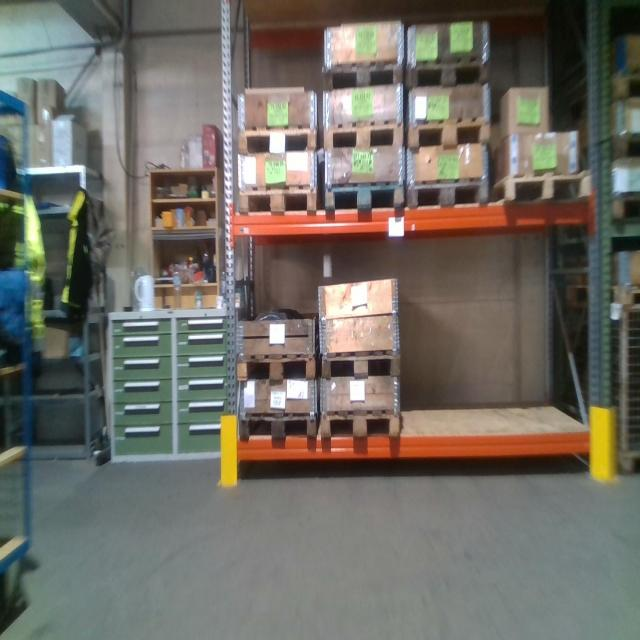pallet: (489, 173, 596, 213), (318, 56, 405, 93), (409, 110, 491, 148), (404, 179, 490, 212), (235, 349, 316, 384), (322, 406, 400, 439), (323, 179, 406, 210), (407, 59, 493, 88), (319, 349, 403, 378), (236, 185, 317, 214), (233, 123, 316, 150), (237, 412, 317, 440), (322, 120, 403, 147), (610, 194, 639, 224), (612, 133, 639, 160), (612, 77, 640, 100)
stillage: (552, 277, 640, 480)
